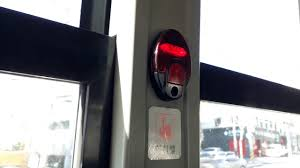bell: (149, 28, 191, 101)
